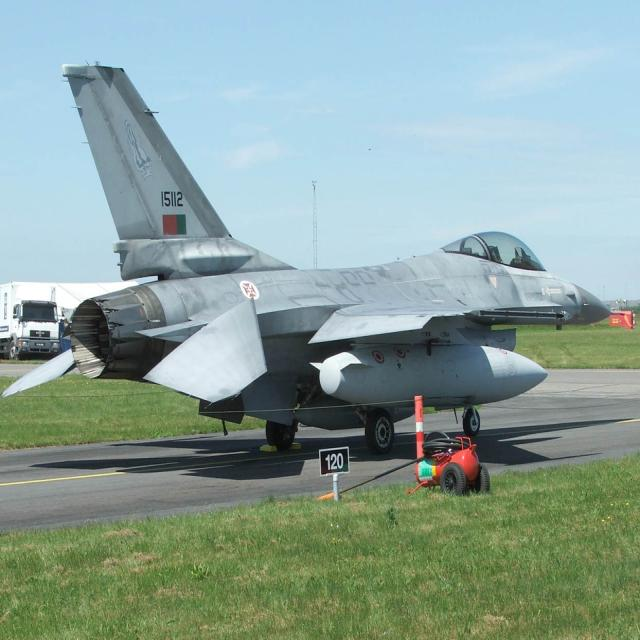MIL_Plane: (1, 61, 635, 458)
